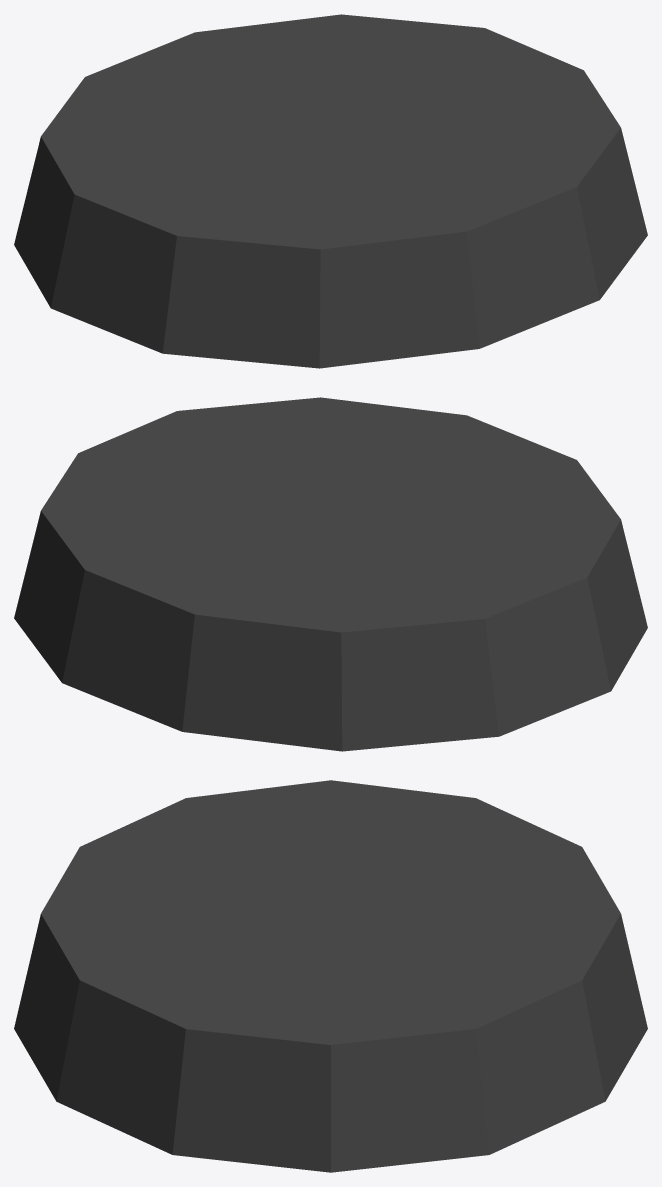
File: Torzo2.fbx
3 views of the same model, one above another, from view 1: azimuth 30°, elevation 25°; view 2: azimuth 150°, elevation 25°; view 3: azimuth 270°, elevation 25° (orthographic). The views are drawn at different scales.
Parts seen in each view (by area): view 1: Torzo2; view 2: Torzo2; view 3: Torzo2.
Boxes of the visible parts, x1,y1,x2,y2 form: Torzo2: (14,14,647,368); Torzo2: (14,397,647,751); Torzo2: (14,780,647,1172).
Size of the model in its own units: 73.61 by 13.66 by 68.1.
